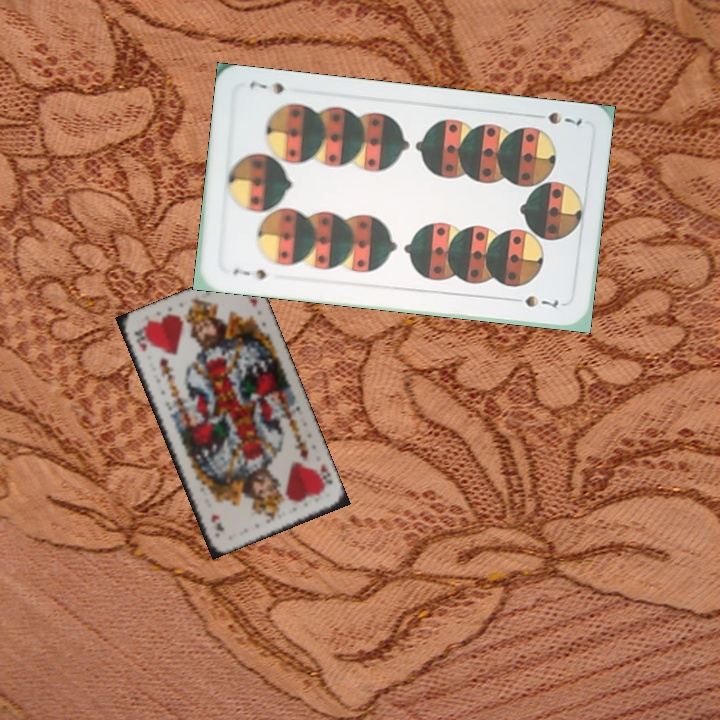HK: (316, 461, 336, 494), (130, 325, 150, 353)
S7: (544, 107, 586, 130), (229, 264, 269, 283)
